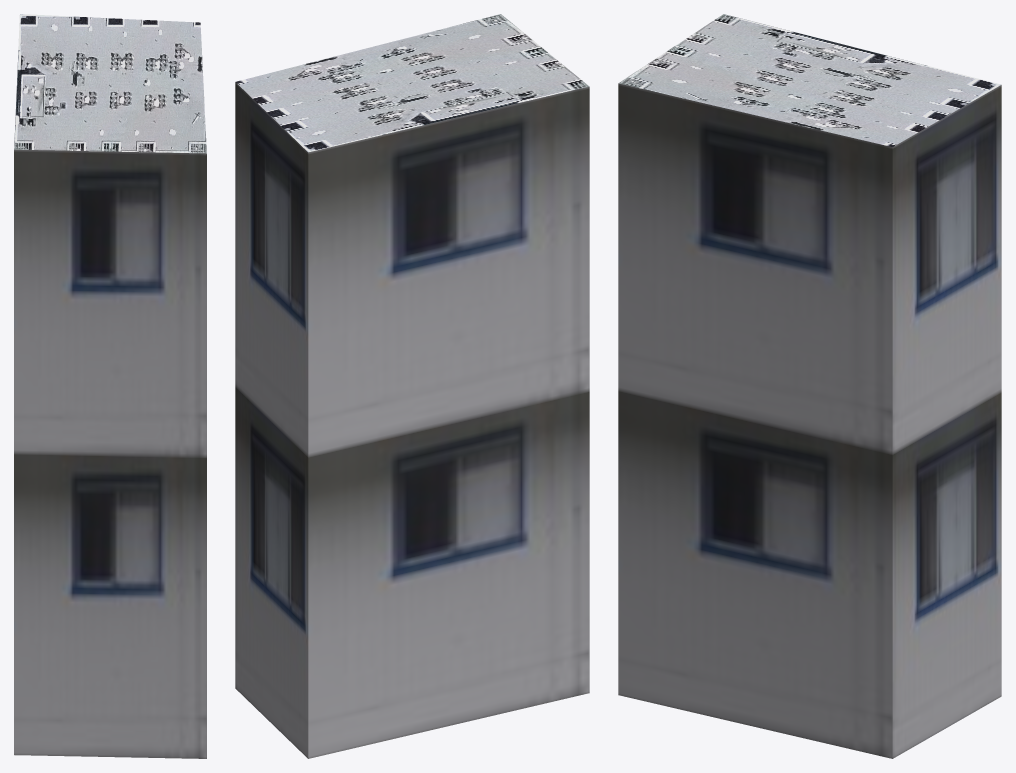
The model's file is ResTex__2998.fbx.
The picture shows the model from 3 angles, left to right: view 1: azimuth 30°, elevation 25°; view 2: azimuth 150°, elevation 25°; view 3: azimuth 270°, elevation 25°; orthographic projection.
Parts seen in each view (by area): view 1: CityEngineMaterial_9_m, CityEngineMaterial_2_m; view 2: CityEngineMaterial_9_m, CityEngineMaterial_2_m; view 3: CityEngineMaterial_9_m, CityEngineMaterial_2_m.
Boxes of the visible parts, left/top/right/bottom form: CityEngineMaterial_9_m: left=14, top=149, right=206, bottom=758; CityEngineMaterial_2_m: left=14, top=14, right=206, bottom=153; CityEngineMaterial_9_m: left=235, top=82, right=589, bottom=758; CityEngineMaterial_2_m: left=236, top=14, right=589, bottom=152; CityEngineMaterial_9_m: left=618, top=83, right=1001, bottom=758; CityEngineMaterial_2_m: left=619, top=14, right=1000, bottom=146.
Size of the model in its own units: 2.8 by 6 by 3.41.
Materials: 2 (2 with a texture image).
